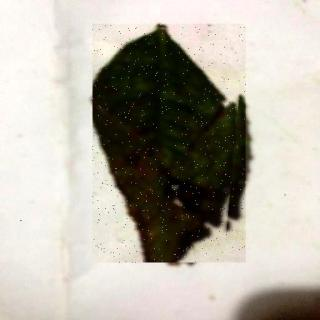Red Leaf Spot: (94, 25, 247, 264)
